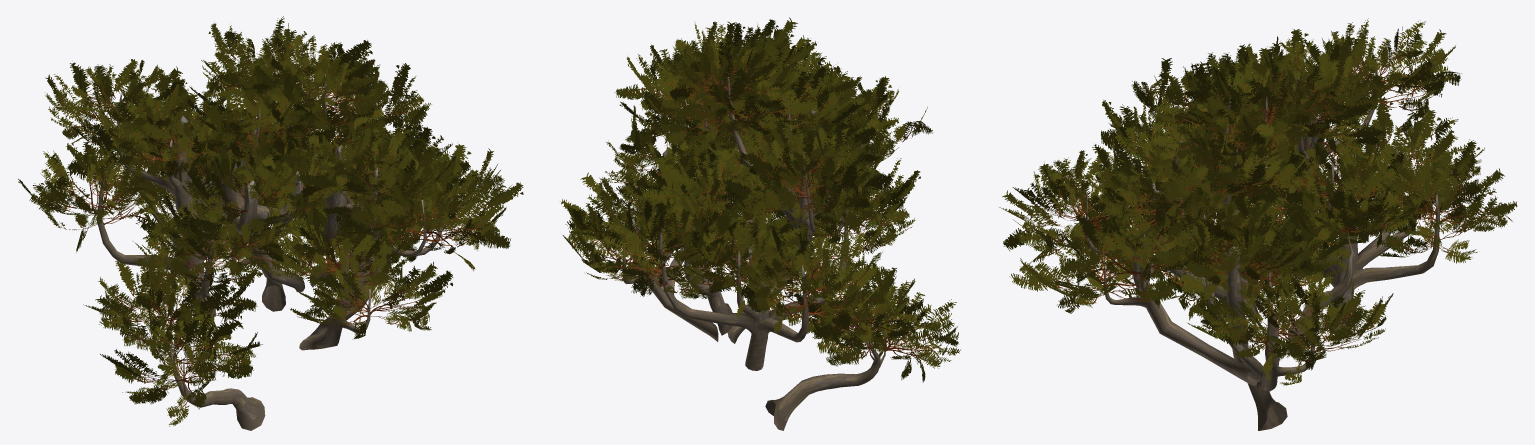
The picture shows the model from 3 angles, left to right: view 1: azimuth 30°, elevation 25°; view 2: azimuth 150°, elevation 25°; view 3: azimuth 270°, elevation 25°; orthographic projection. The views are drawn at different scales.
Visible parts, largest first — view 1: SM_Yew_03_canopy_LOD0; view 2: SM_Yew_03_canopy_LOD0; view 3: SM_Yew_03_canopy_LOD0.
Part boxes in pixels (box(x1,y1,x2,y2)): SM_Yew_03_canopy_LOD0: box(18, 16, 523, 430); SM_Yew_03_canopy_LOD0: box(561, 17, 960, 430); SM_Yew_03_canopy_LOD0: box(999, 18, 1517, 430).
Size of the model in its own units: 6.65 by 6.48 by 7.68.
2 materials, 2 textured.
